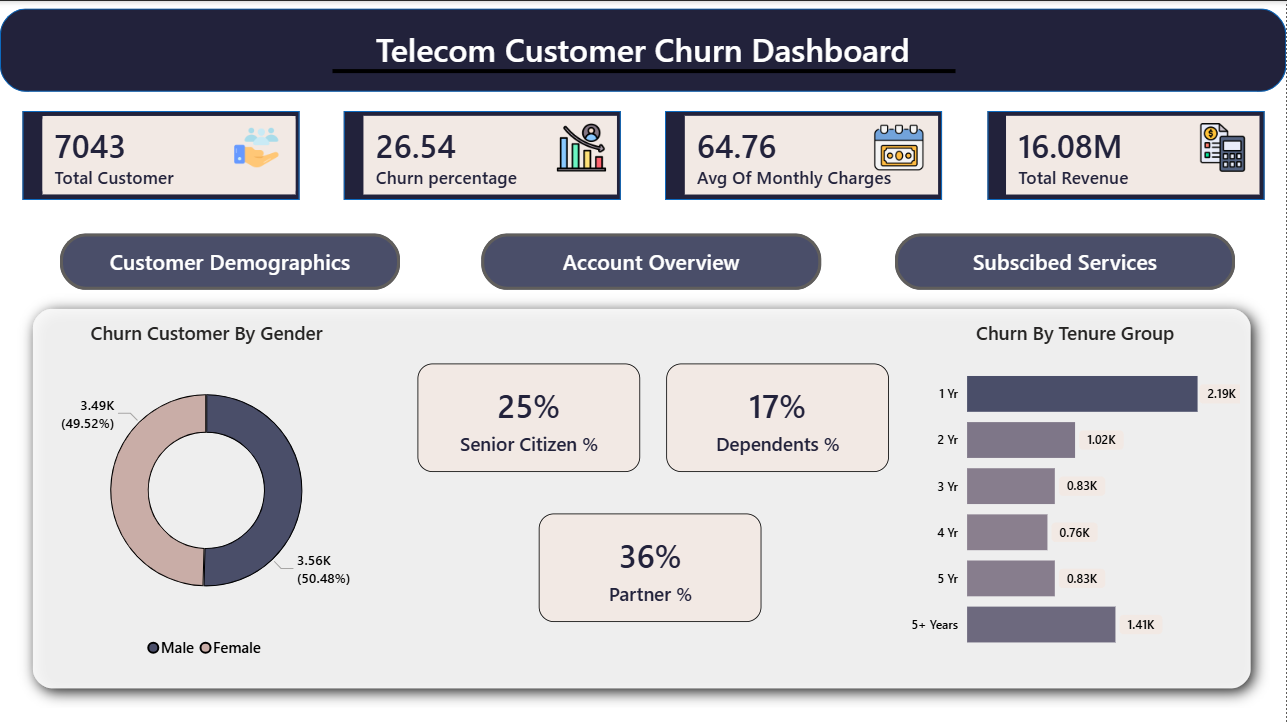

This screenshot's page, from the dashboard's own definition file:
{"tool":"powerbi","page":{"name":"Dashboard","canvas":[1280,720],"ordinal":0},"visuals":[{"type":"shape","box":[0,7.5,1280,82.9],"z":0,"group":"g8"},{"type":"textbox","box":[245.7,21.8,787.1,55.7],"z":0,"group":"g3"},{"type":"group","id":"g1","title":"Group 2","box":[22.1,110,1235.7,88.6],"z":0,"group":"g7"},{"type":"shape","box":[22.1,110,275.7,88.6],"z":0,"group":"g1"},{"type":"group","id":"g2","title":"Group 5","box":[14.3,287.1,1250,415.7],"z":0},{"type":"shape","box":[14.3,287.1,1250,415.7],"z":0,"group":"g2"},{"type":"barChart","title":"Churn By Tenure Group","fields":{"Category":["public customer.Tenure Group"],"Y":["CountNonNull(public customer.Churn)"]},"box":[901.4,317.5,338.6,345.8],"z":0,"group":"g5"},{"type":"group","id":"g3","title":"Group 3","box":[245.7,21.8,787.1,68.6],"z":1000,"group":"g8"},{"type":"shape","box":[330,50.4,620,40],"z":1000,"group":"g3"},{"type":"group","id":"g4","title":"Group 3","box":[37,110,1221.4,88.6],"z":1000,"group":"g7"},{"type":"cardVisual","fields":{"Data":["Count(public customer.Customer_id)"]},"box":[37,110,262,88.6],"z":1000,"group":"g4"},{"type":"shape","box":[662.1,110,275.7,88.6],"z":1000,"group":"g1"},{"type":"group","id":"g5","title":"Group 4","box":[40,317.5,1200,345.8],"z":1000,"group":"g2"},{"type":"card","fields":{"Values":["public customer.dependents_percentage"]},"box":[663.2,361.2,221.4,108.2],"z":1000,"group":"g5"},{"type":"shape","box":[982.1,110,275.7,88.6],"z":2000,"group":"g1"},{"type":"card","fields":{"Values":["public customer.senior_citizen_percentage"]},"box":[416.1,361.2,221.4,108.2],"z":2000,"group":"g5"},{"type":"shape","box":[342.1,110,275.7,88.6],"z":3000,"group":"g1"},{"type":"group","id":"g6","title":"Group 4","box":[225,121.4,1021.4,50],"z":3000,"group":"g7"},{"type":"actionButton","box":[59.7,231.4,338.4,56],"z":3000},{"type":"card","fields":{"Values":["public customer.partner_percentage"]},"box":[536.7,510,221.7,108.3],"z":3000,"group":"g5"},{"type":"cardVisual","fields":{"Data":["Avg(public customer.Monthly_charges)"]},"box":[676.4,110,262,88.6],"z":4000,"group":"g4"},{"type":"actionButton","box":[890.7,231.4,338.4,56],"z":4000},{"type":"donutChart","title":"Churn Customer By Gender","fields":{"Category":["public customer.Gender"],"Y":["CountNonNull(public customer.Customer_id)"]},"box":[40,317.5,331.4,345.8],"z":4000,"group":"g5"},{"type":"cardVisual","fields":{"Data":["Sum(public customer.Total_charges)"]},"box":[996.4,110,262,88.6],"z":5000,"group":"g4"},{"type":"actionButton","box":[478.9,231.4,338.4,56],"z":5000},{"type":"group","id":"g7","title":"Group 5","box":[22.1,110,1236.3,88.6],"z":6000},{"type":"cardVisual","fields":{"Data":["public customer.Churn percentage"]},"box":[356.4,110,262,88.6],"z":6000,"group":"g4"},{"type":"image","box":[225,121.4,60,50],"z":6500,"group":"g6"},{"type":"group","id":"g8","title":"Group 6","box":[0,7.5,1280,82.5],"z":7000},{"type":"image","box":[547.9,121.4,60,50],"z":7000,"group":"g6"},{"type":"image","box":[1186.4,121.4,60,50],"z":7500,"group":"g6"},{"type":"image","box":[865,121.4,60,50],"z":8000,"group":"g6"}]}

Visuals, with their boxes in screenshot pixels (x1, y1, x2, y2), scaled from the page's 1280x720 canvas onto the 1287x723 screenshot:
shape: crop(0, 8, 1286, 91)
textbox: crop(247, 22, 1038, 78)
"Group 2" group: crop(22, 110, 1265, 199)
shape: crop(22, 110, 299, 199)
"Group 5" group: crop(14, 288, 1271, 706)
shape: crop(14, 288, 1271, 706)
"Churn By Tenure Group" barChart: crop(906, 319, 1247, 666)
"Group 3" group: crop(247, 22, 1038, 91)
shape: crop(332, 51, 955, 91)
"Group 3" group: crop(37, 110, 1265, 199)
cardVisual - Count(public customer.Customer_id): crop(37, 110, 301, 199)
shape: crop(666, 110, 943, 199)
"Group 4" group: crop(40, 319, 1247, 666)
card - public customer.dependents_percentage: crop(667, 363, 889, 471)
shape: crop(987, 110, 1265, 199)
card - public customer.senior_citizen_percentage: crop(418, 363, 641, 471)
shape: crop(344, 110, 621, 199)
"Group 4" group: crop(226, 122, 1253, 172)
actionButton: crop(60, 232, 400, 289)
card - public customer.partner_percentage: crop(540, 512, 763, 621)
cardVisual - Avg(public customer.Monthly_charges): crop(680, 110, 944, 199)
actionButton: crop(896, 232, 1236, 289)
"Churn Customer By Gender" donutChart: crop(40, 319, 373, 666)
cardVisual - Sum(public customer.Total_charges): crop(1002, 110, 1265, 199)
actionButton: crop(482, 232, 822, 289)
"Group 5" group: crop(22, 110, 1265, 199)
cardVisual - public customer.Churn percentage: crop(358, 110, 622, 199)
image: crop(226, 122, 287, 172)
"Group 6" group: crop(0, 8, 1286, 90)
image: crop(551, 122, 611, 172)
image: crop(1193, 122, 1253, 172)
image: crop(870, 122, 930, 172)
